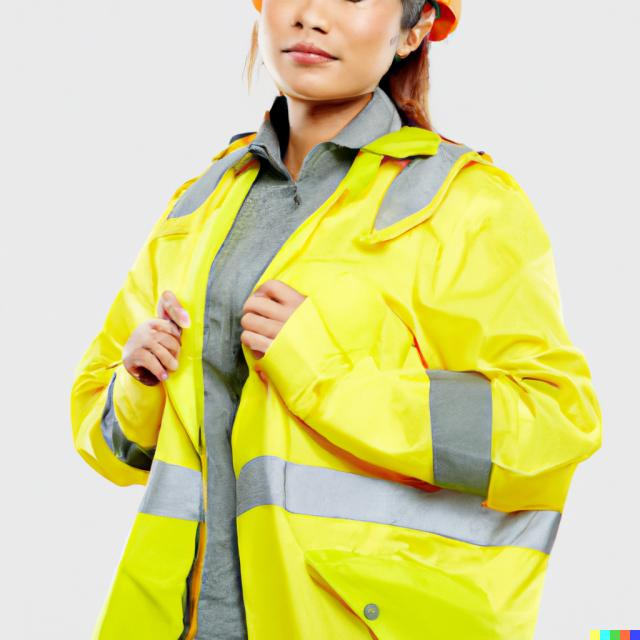Reflective-Jacket: (88, 108, 596, 633)
